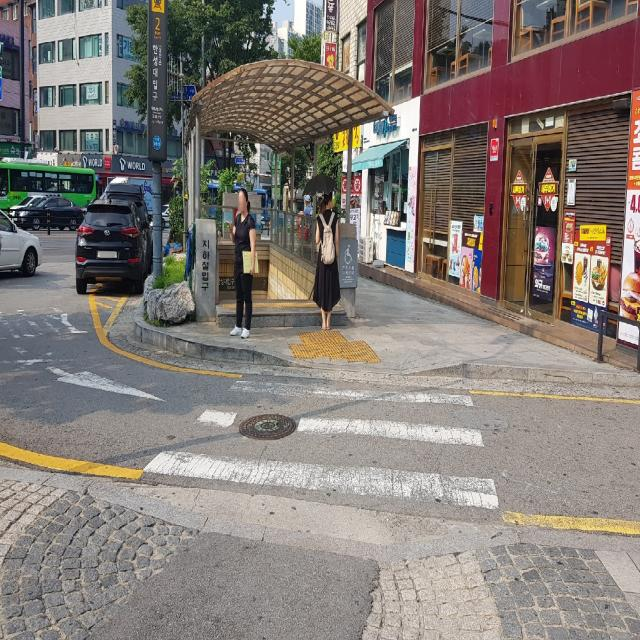횡단보도: (141, 377, 501, 512)
